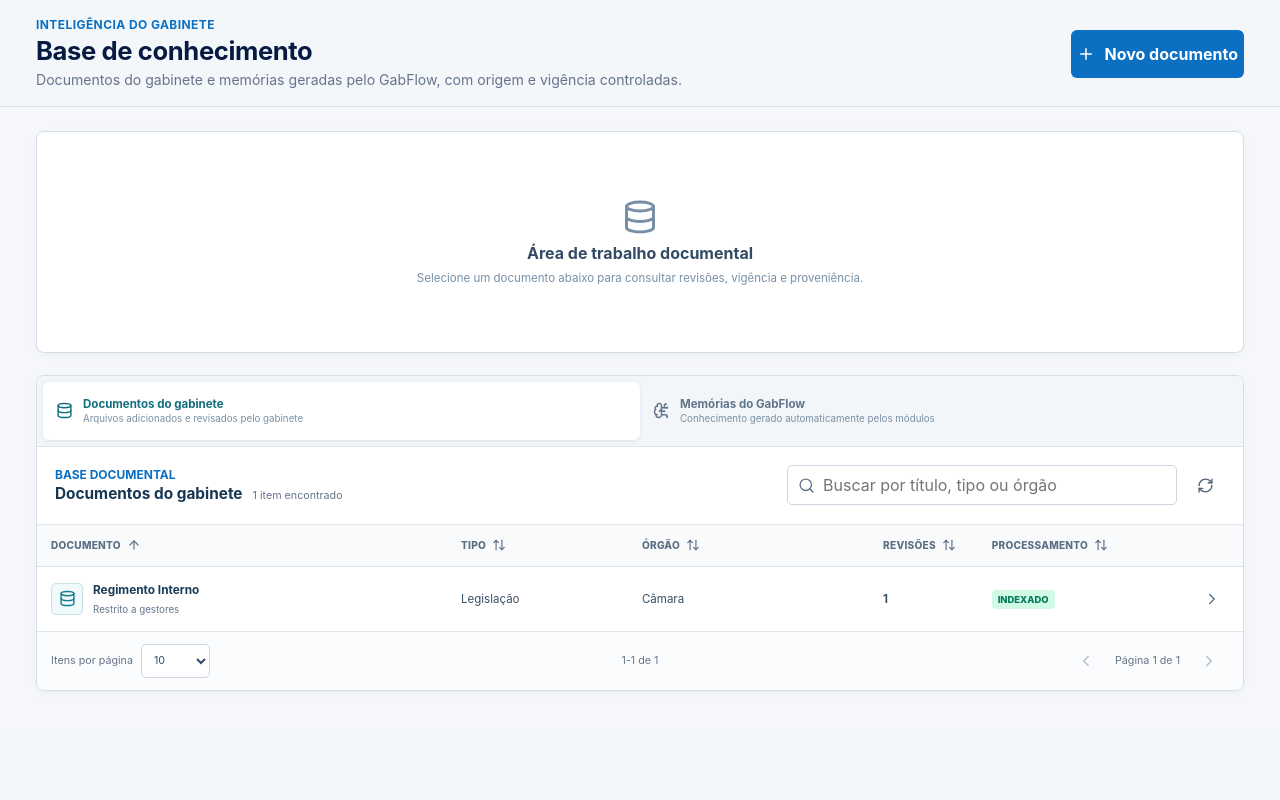
Test case: publica versão indexada e preserva indicadores de proveniência
This screenshot has width=1280, height=800.
Click the button "Regimento Interno Restrito a gestores". click: click(67, 599)
box: x1=51 y1=583 x2=433 y2=615
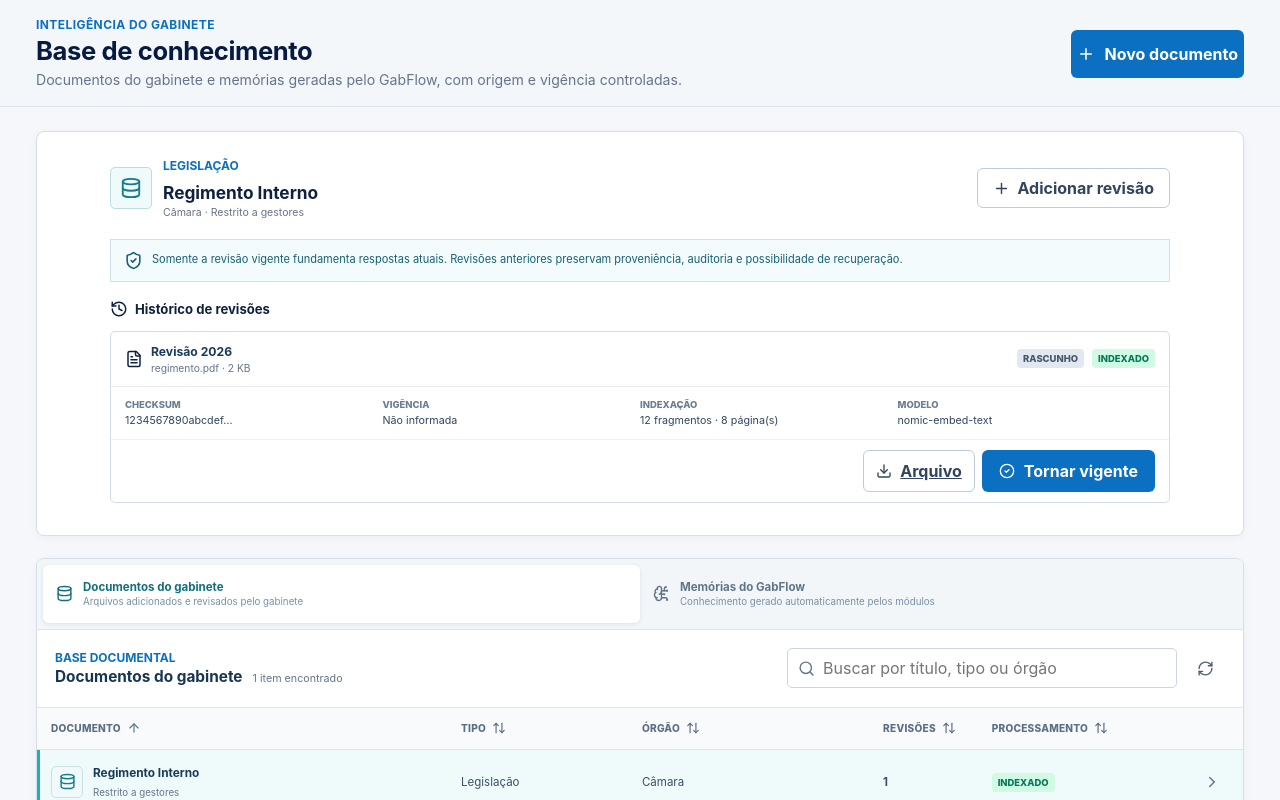
Expected: the text "12 fragmentos · 8 página(s)" is shown, x1=640 y1=414 x2=778 y2=426
Expected: the text "nomic-embed-text" is shown, x1=898 y1=414 x2=992 y2=426
Click the button "Tornar vigente". click: click(1068, 470)
box: x1=982 y1=450 x2=1155 y2=492
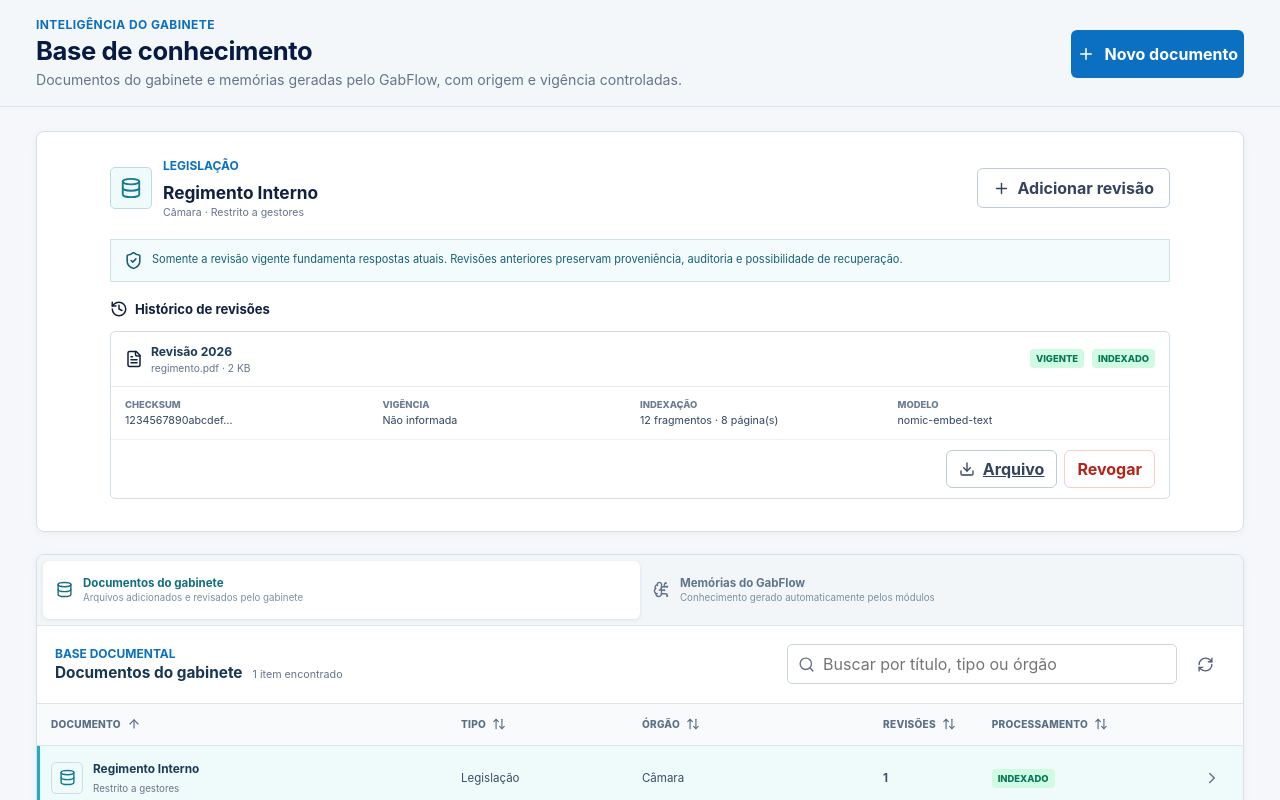
Expected: the text "Vigente" is shown, x1=1030 y1=349 x2=1084 y2=368
